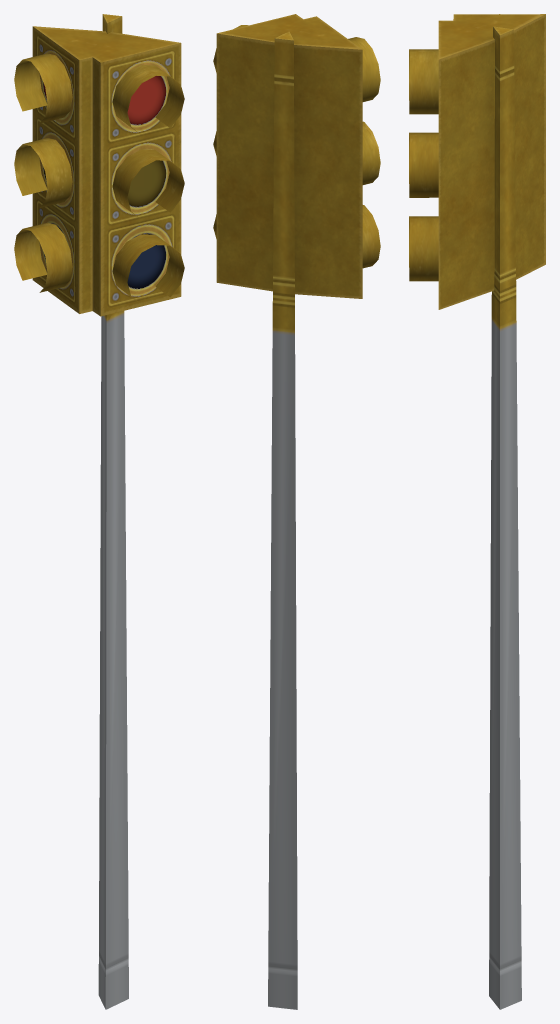
File: sb_obj_ModernCity104_traffic_light.fbx
3 renders of one model, left to right at view 1: azimuth 30°, elevation 25°; view 2: azimuth 210°, elevation 25°; view 3: azimuth 270°, elevation 25°, orthographic.
Visible parts, largest first — view 1: sb_obj_ModernCity104_traffic_light; view 2: sb_obj_ModernCity104_traffic_light; view 3: sb_obj_ModernCity104_traffic_light.
Boxes of the visible parts, box(x1,y1,x2,y2) form: sb_obj_ModernCity104_traffic_light: box(14, 14, 184, 1009); sb_obj_ModernCity104_traffic_light: box(213, 14, 380, 1009); sb_obj_ModernCity104_traffic_light: box(409, 14, 545, 1009).
Bounding box in the file's own units: 0.3793 × 2.98 × 0.3803.
